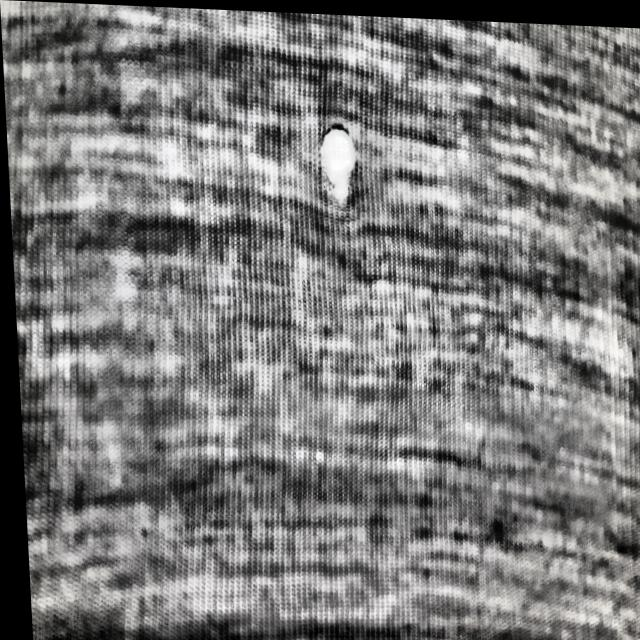Hole: (311, 115, 363, 204)
